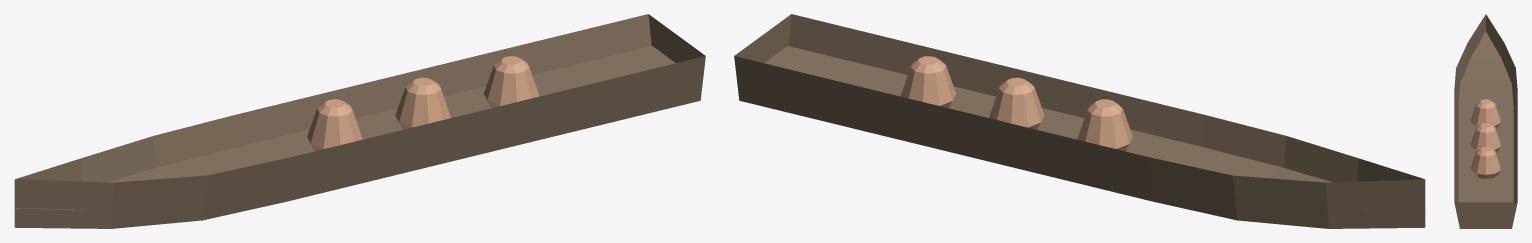
The model's file is canoe.glb.
The picture shows the model from 3 angles, left to right: view 1: azimuth 30°, elevation 25°; view 2: azimuth 150°, elevation 25°; view 3: azimuth 270°, elevation 25°; orthographic projection. The views are drawn at different scales.
Parts seen in each view (by area): view 1: canoe, canoe_jars; view 2: canoe, canoe_jars; view 3: canoe, canoe_jars.
Boxes of the visible parts, box(x1,y1,x2,y2) form: canoe: box(14, 14, 705, 228); canoe_jars: box(307, 56, 539, 151); canoe: box(734, 14, 1425, 228); canoe_jars: box(900, 56, 1132, 151); canoe: box(1454, 14, 1517, 228); canoe_jars: box(1471, 99, 1500, 178).
Bounding box in the file's own units: 6 × 0.57 × 0.9.
